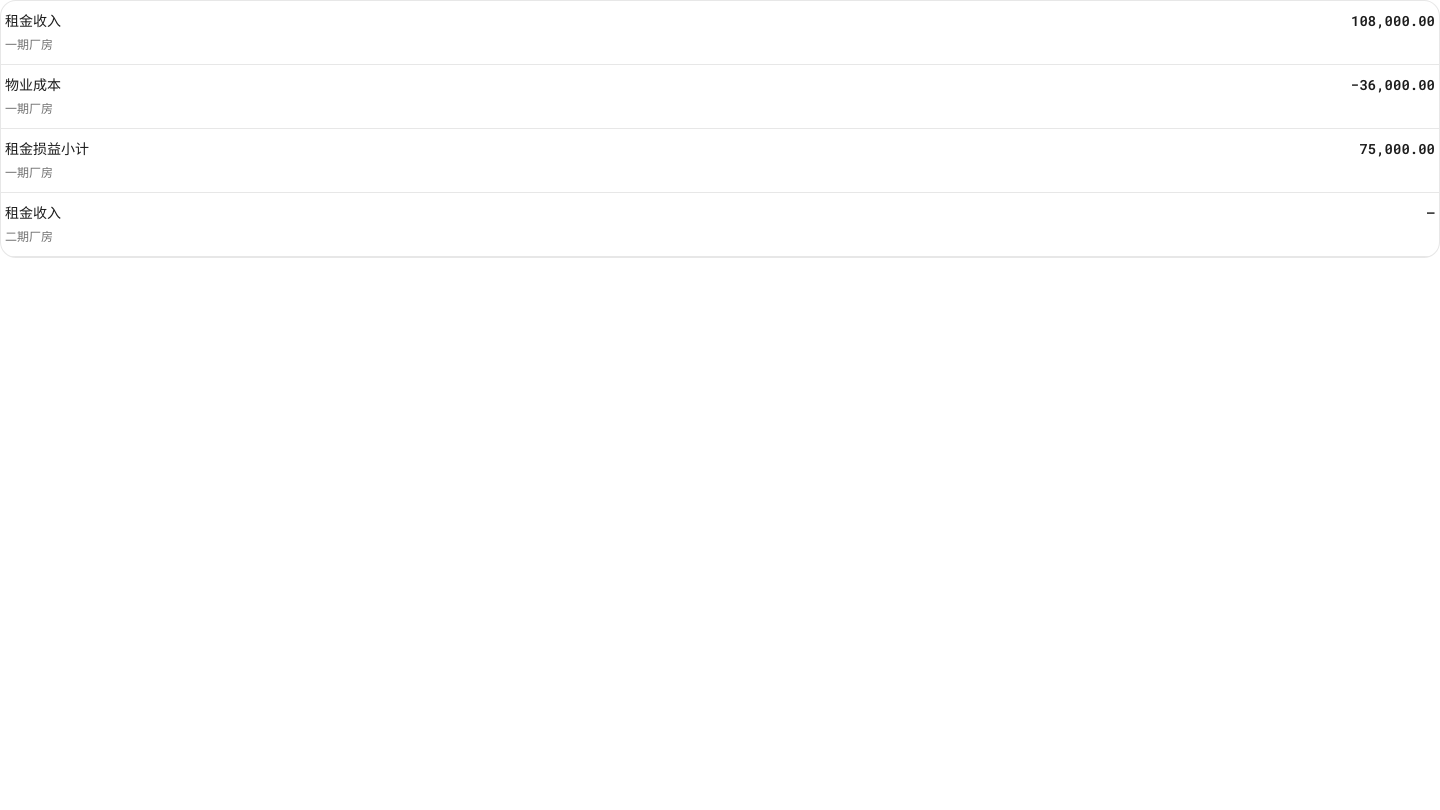
Test case: 损益附表 · S 档卡片化(稿 WideCardVariants §3) › ❗行是平铺的(分组=列不是行):四行全部出卡、全部可点,不画小节头
Click the element with class "fpwc-c" showing "租金损益小计 75,000.00 一期厂房": (720, 161) x1=1 y1=129 x2=1439 y2=193
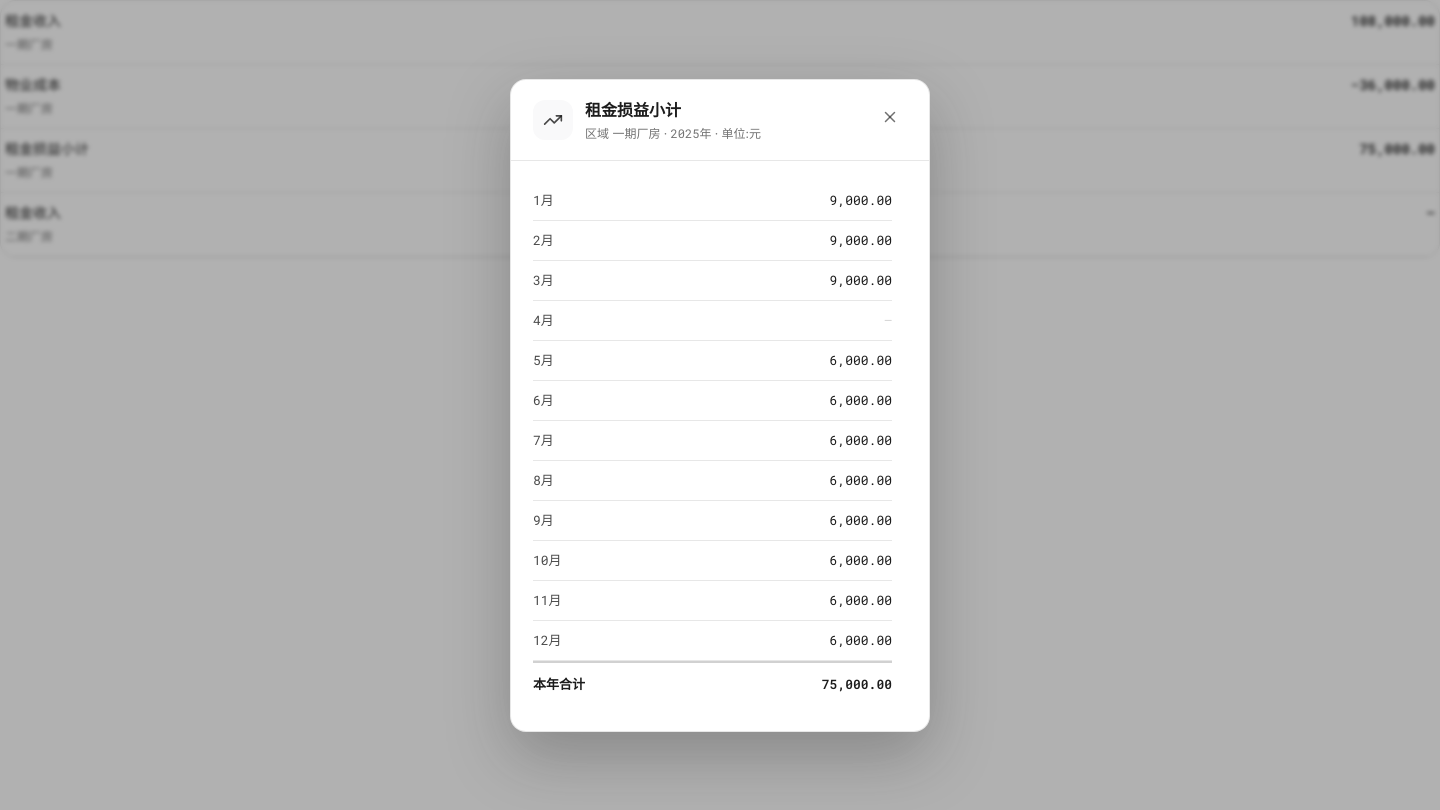
Expected: the heading "租金损益小计" is shown, x1=585 y1=100 x2=681 y2=120
